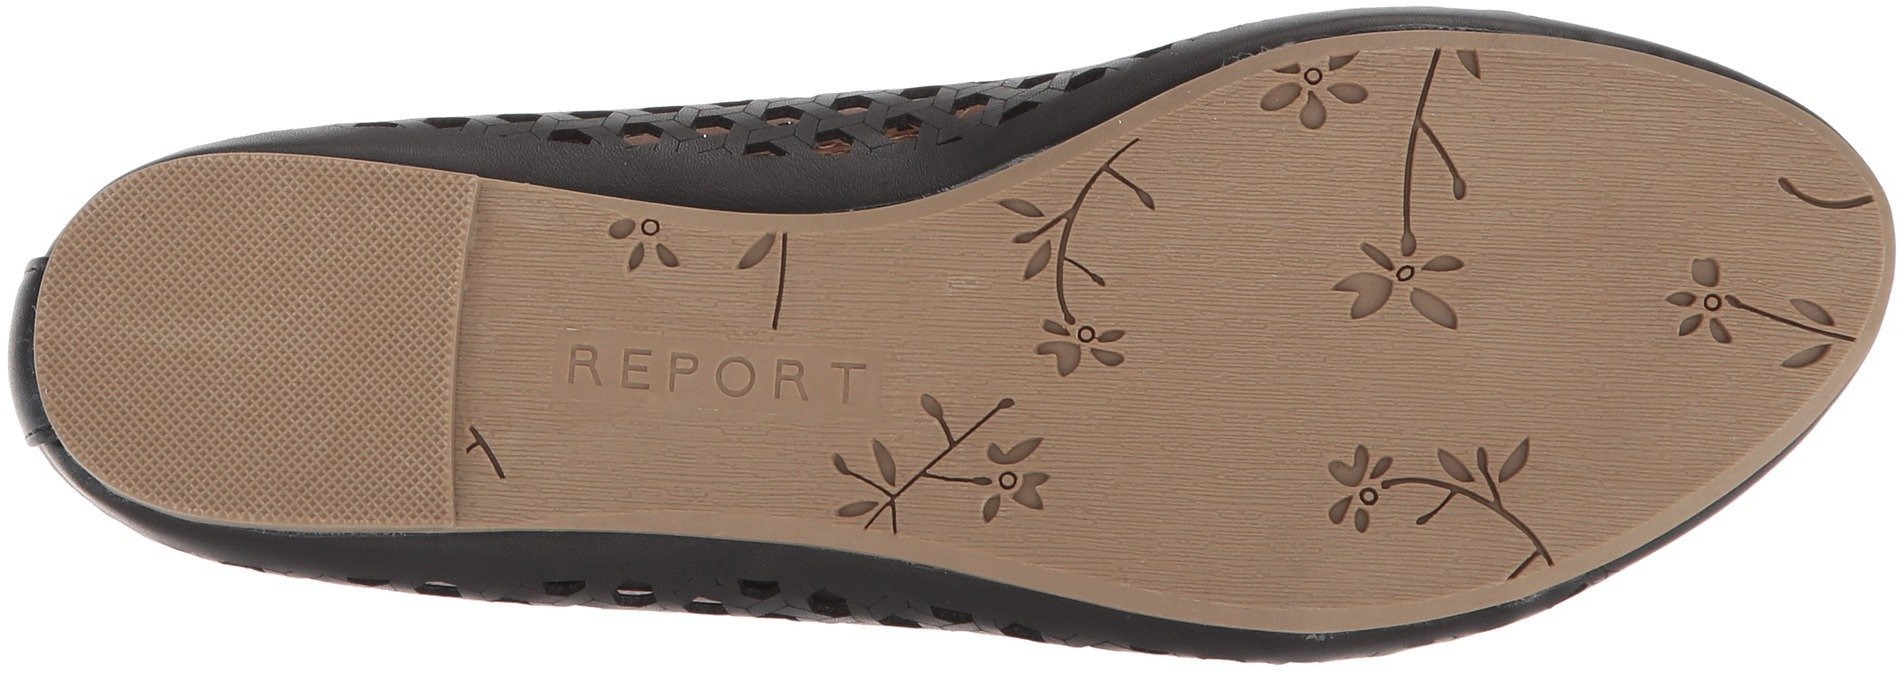other: (801, 32, 1888, 612)
text: (551, 330, 892, 417)
